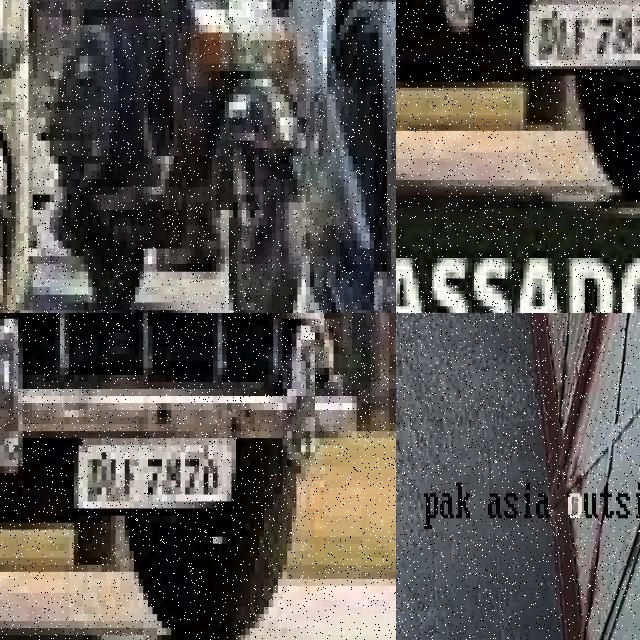bike: (54, 0, 305, 313), (292, 0, 396, 313), (0, 0, 54, 313)
car: (0, 313, 370, 586), (396, 0, 640, 143)
